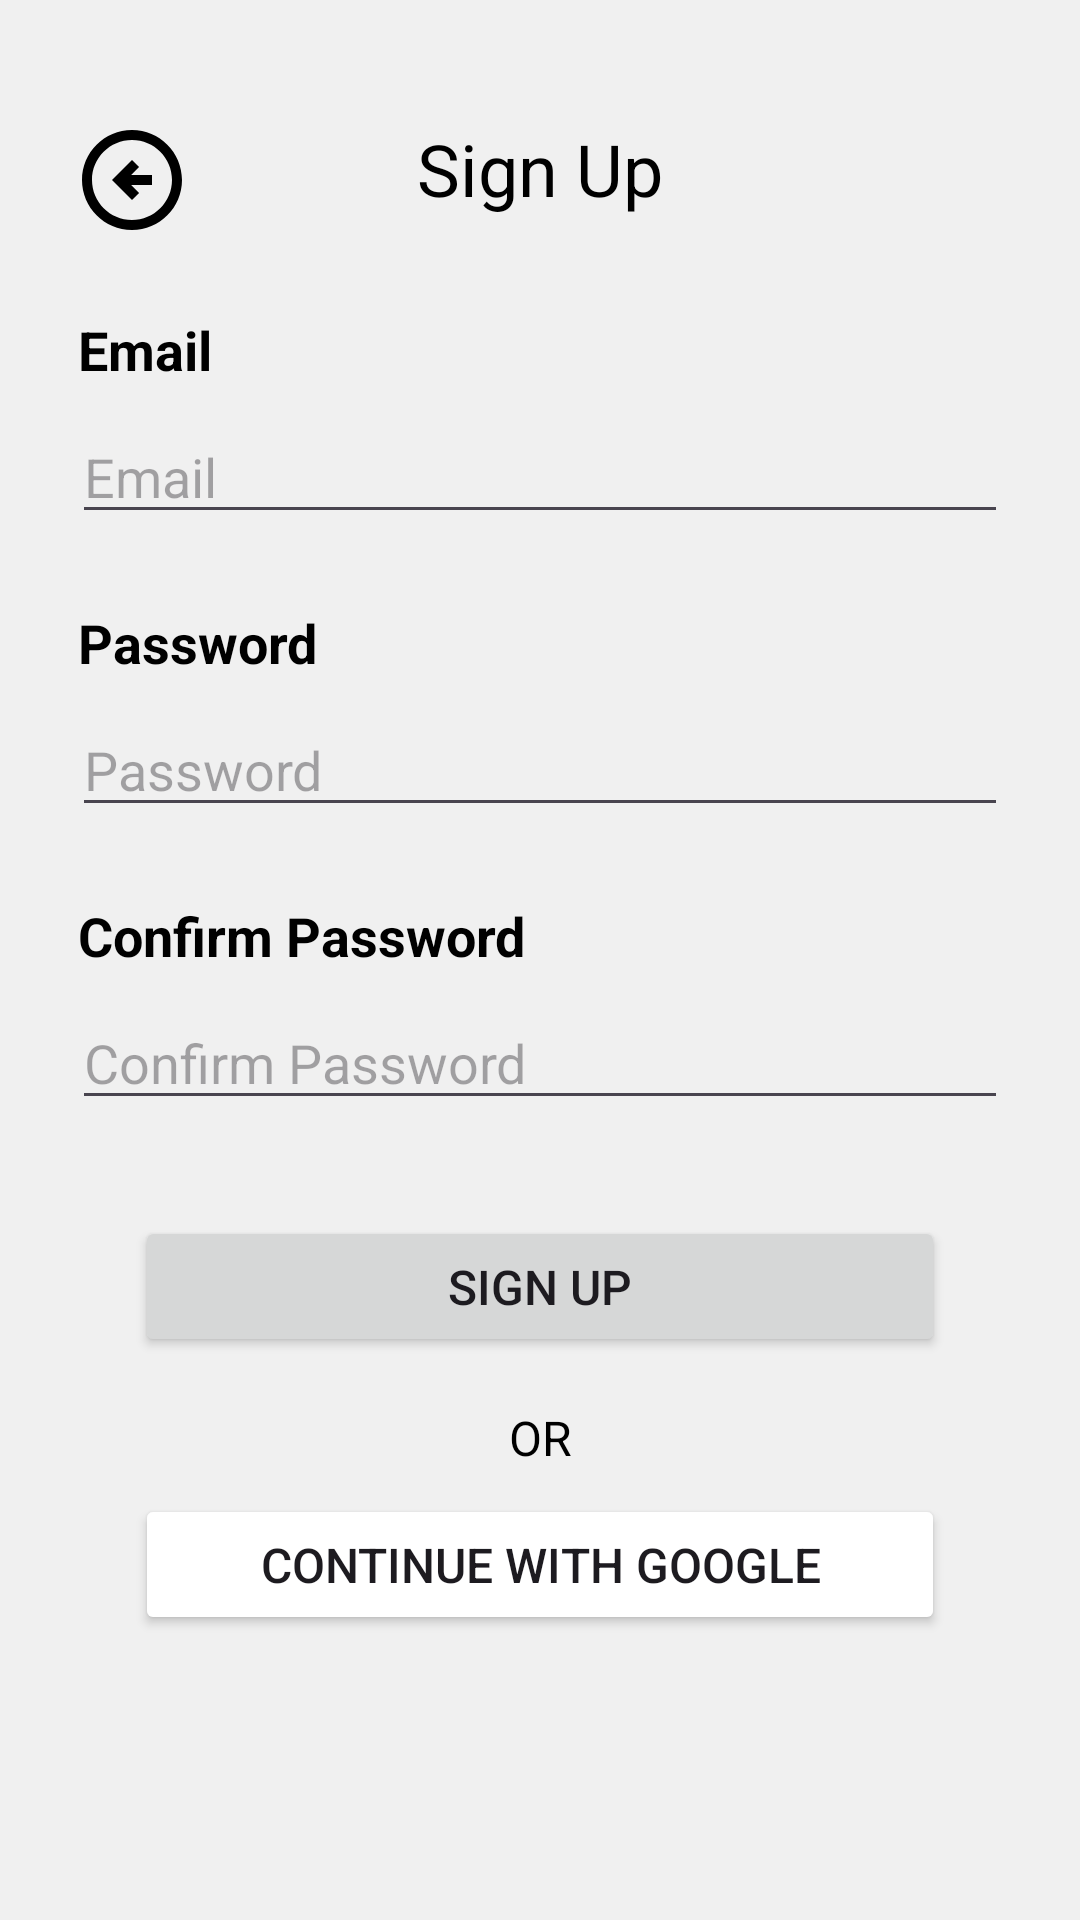

Named icons in this screenshot (1080x1920) and their bounding boxes, bbox=[x1, y1, x2, y2]:
back arrow: bbox=[82, 130, 182, 230]
